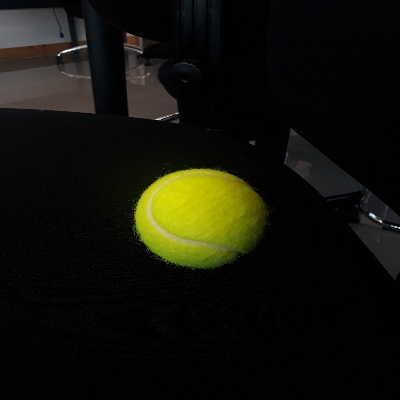Ball: (132, 166, 267, 269)
